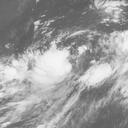cyclone: (28, 42, 75, 84)
